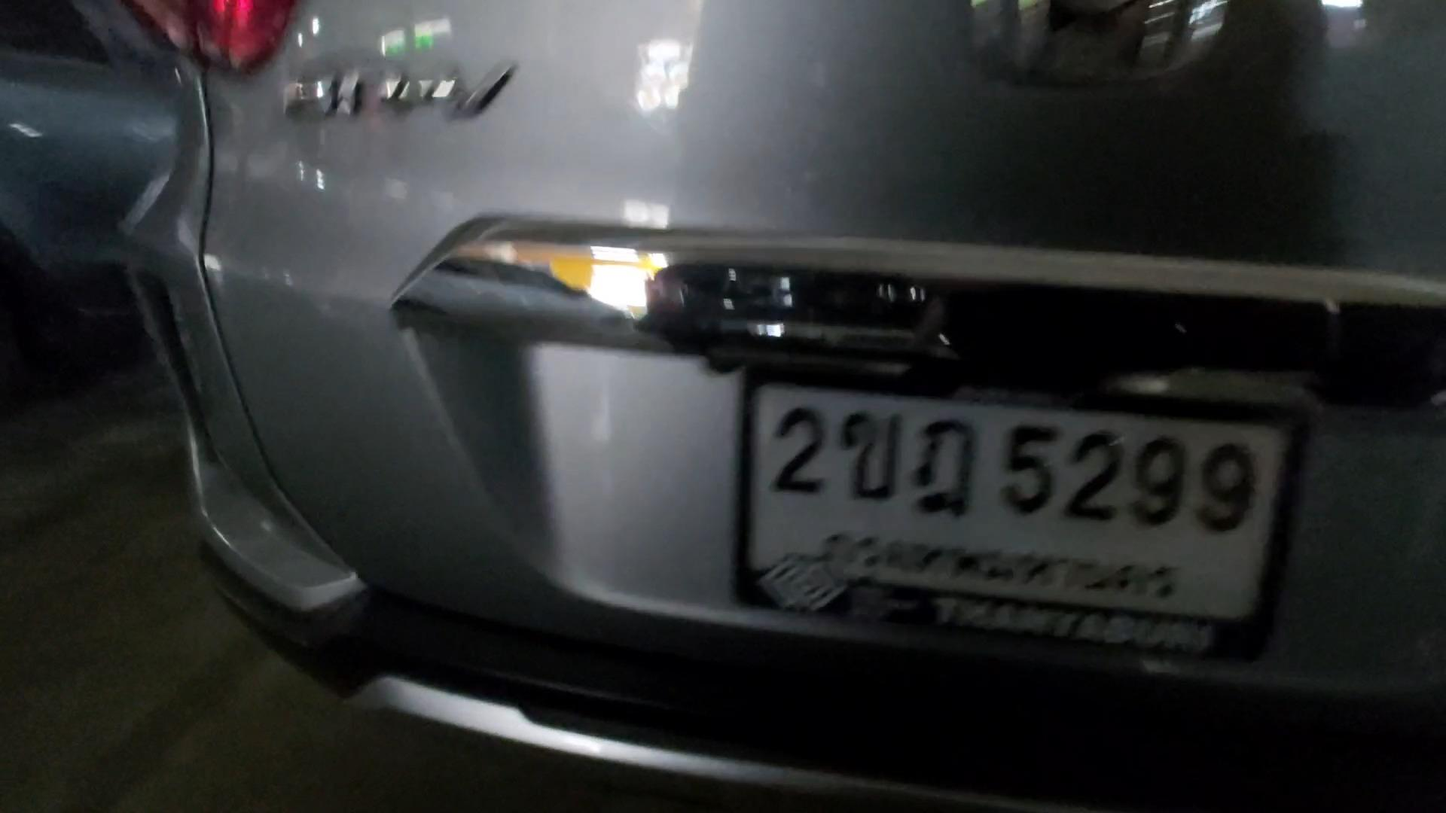license-plate: (747, 386, 1286, 628)
